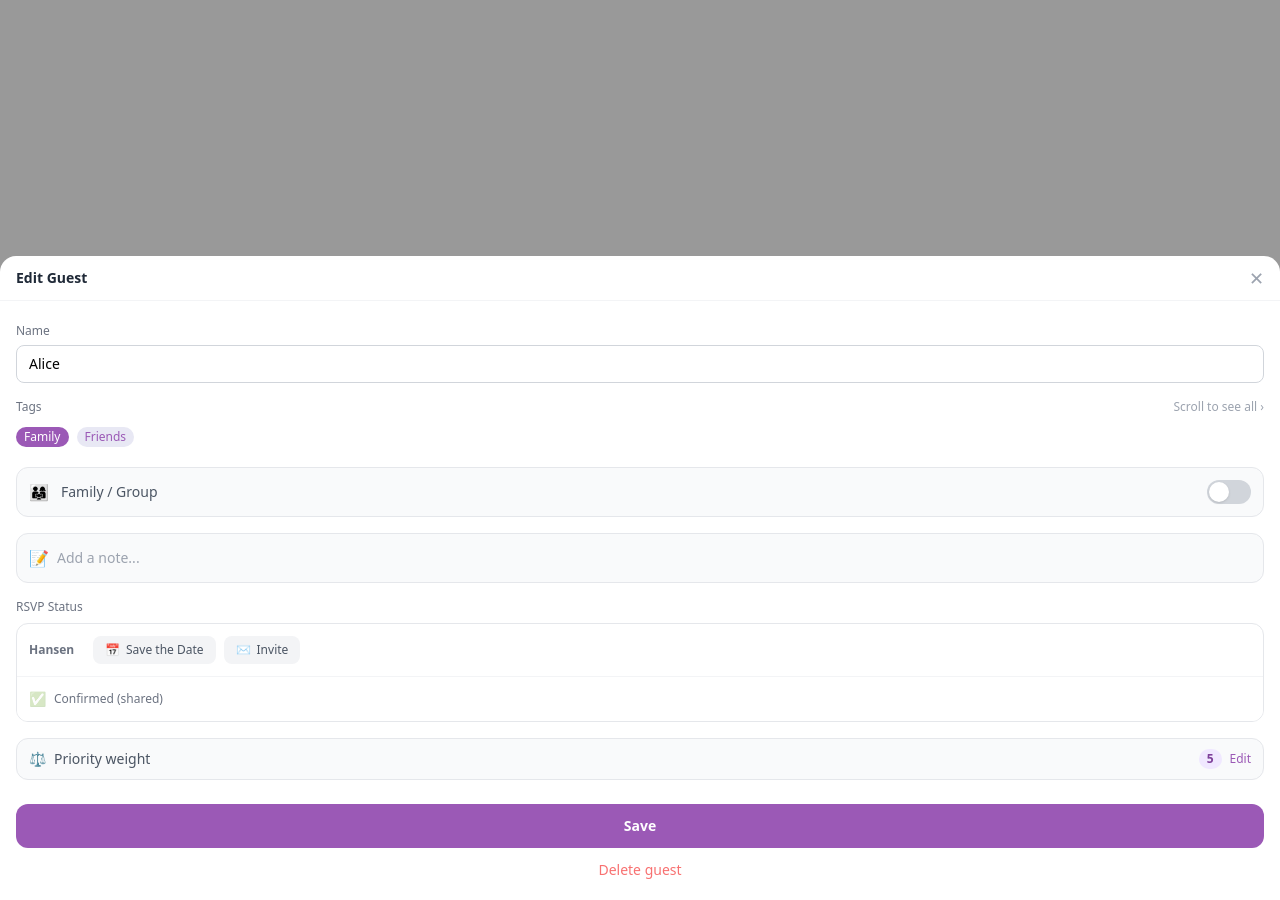
Test: GuestEditSheet › reveals weight input when Edit is clicked
Click the button "Edit".
click(1240, 759)  # box x1=1230 y1=751 x2=1251 y2=767
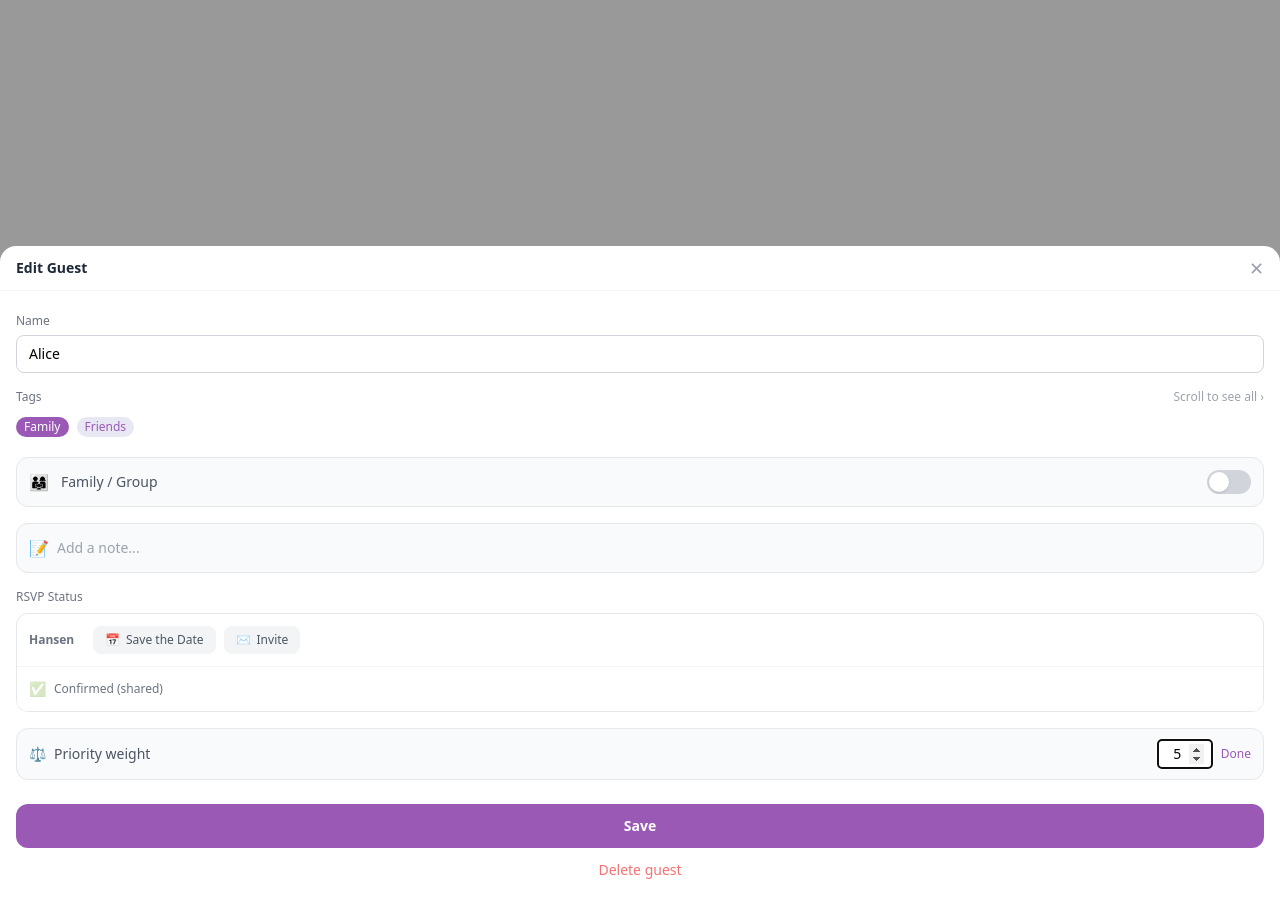
Result: the number field is shown at x1=1157 y1=739 x2=1213 y2=769
